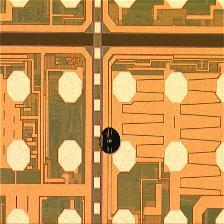PARTICLE: (99, 126, 124, 157)
